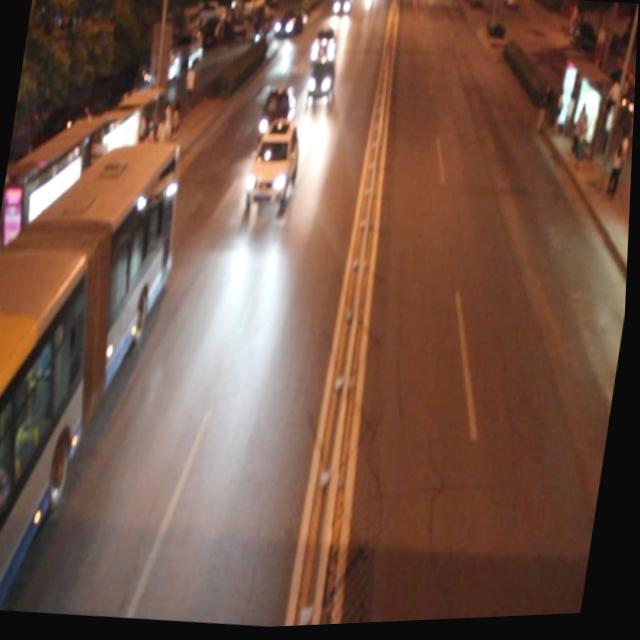car: (245, 117, 305, 207), (258, 85, 300, 146), (305, 57, 339, 102), (309, 27, 339, 68)
van: (0, 130, 184, 622)
